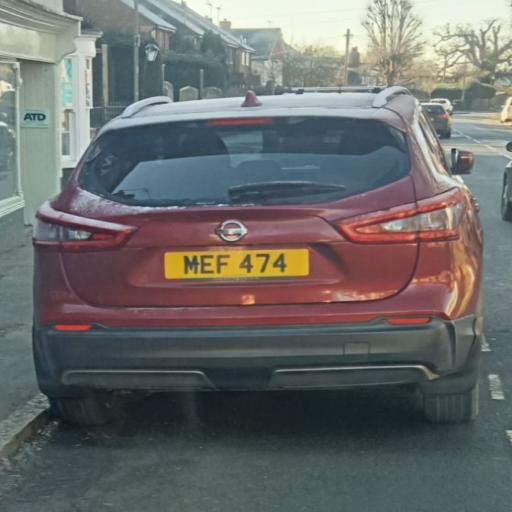numberplates: (165, 250, 309, 279)
